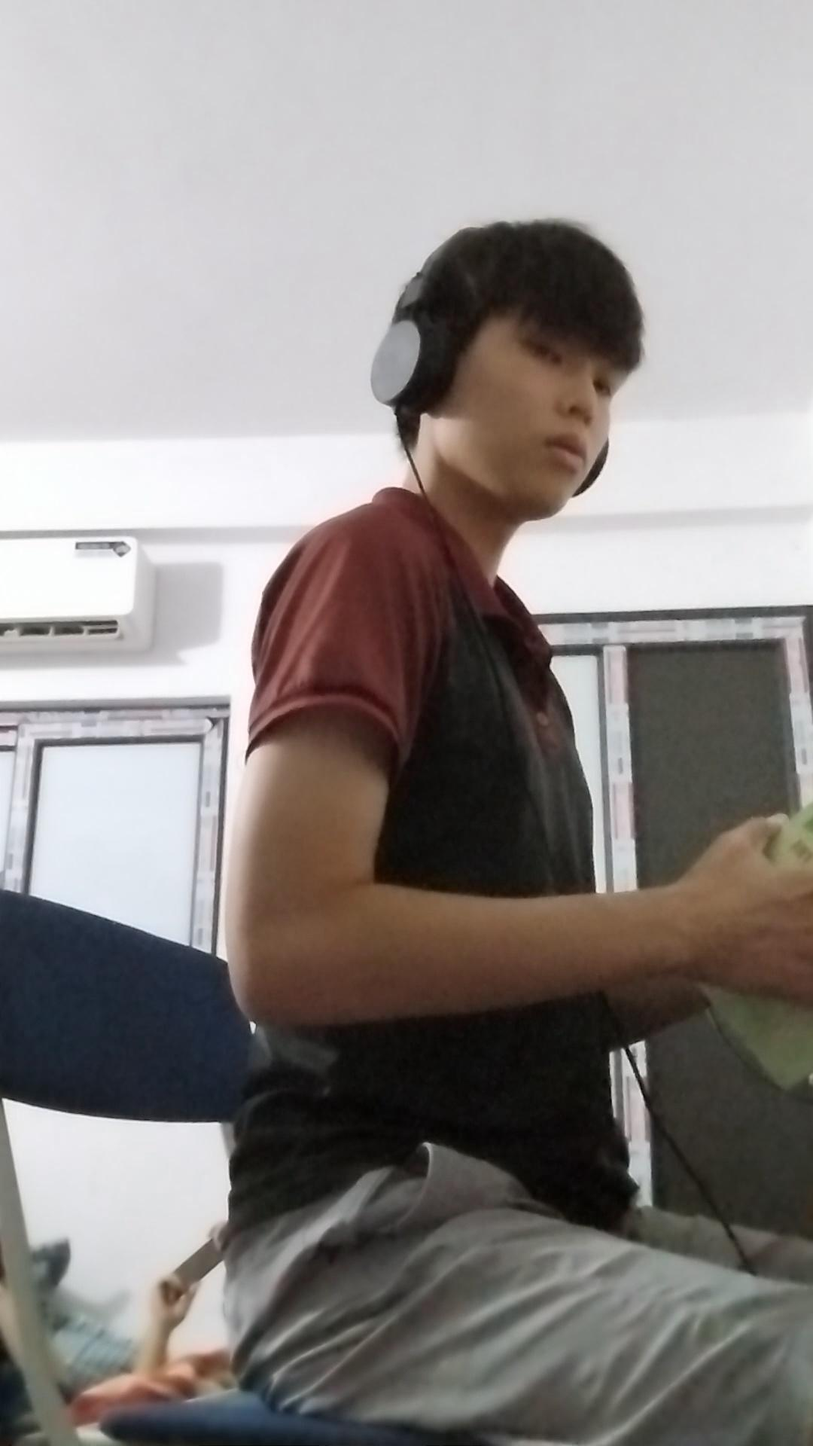GoodPosture: (224, 220, 812, 1445)
